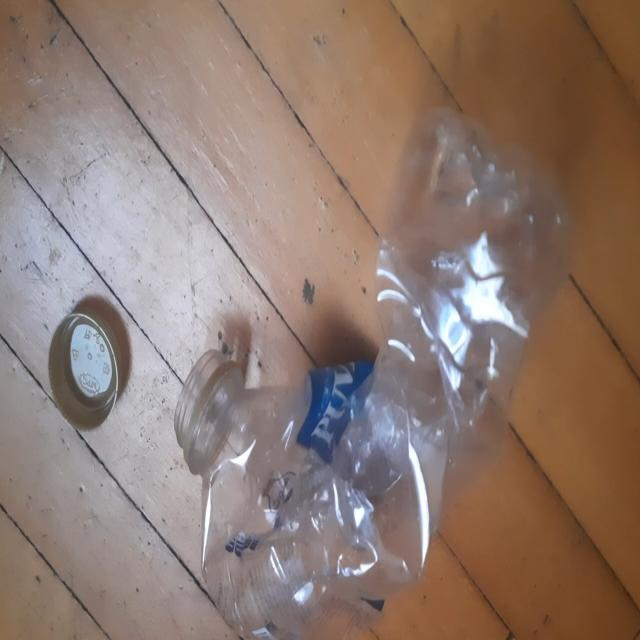Plastic: (175, 105, 570, 637)
